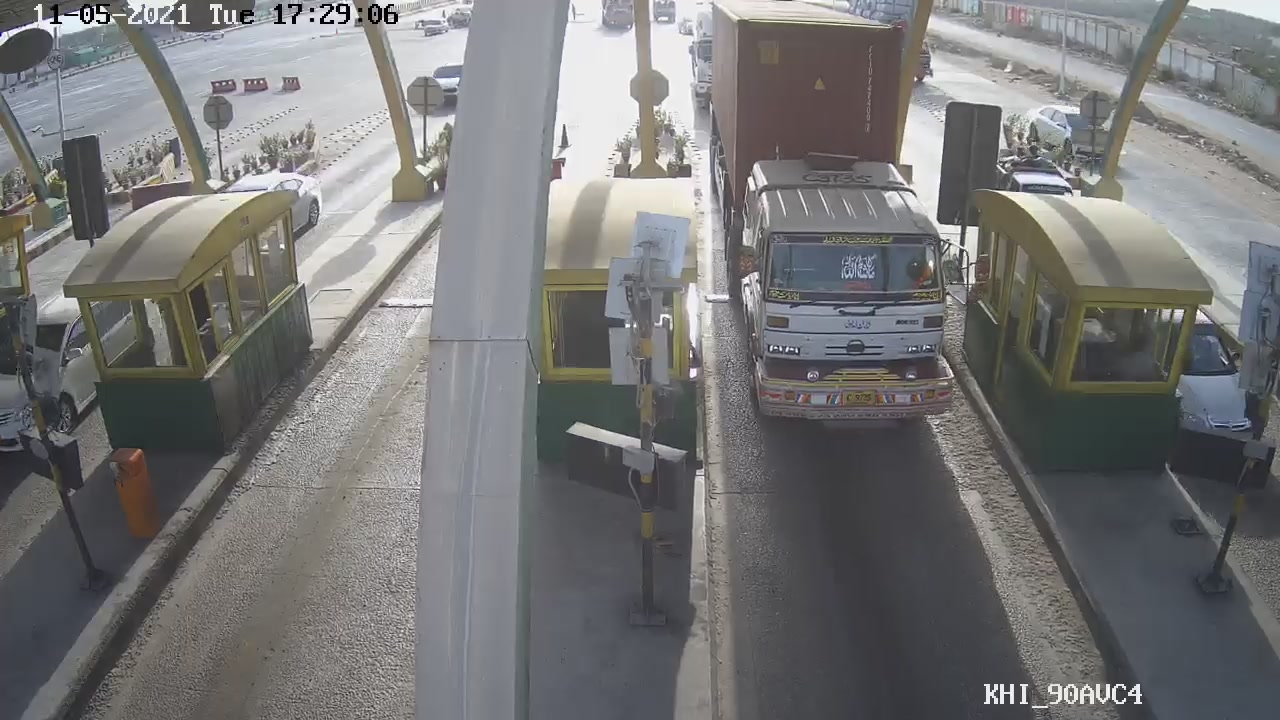F6: (700, 10, 966, 439)
